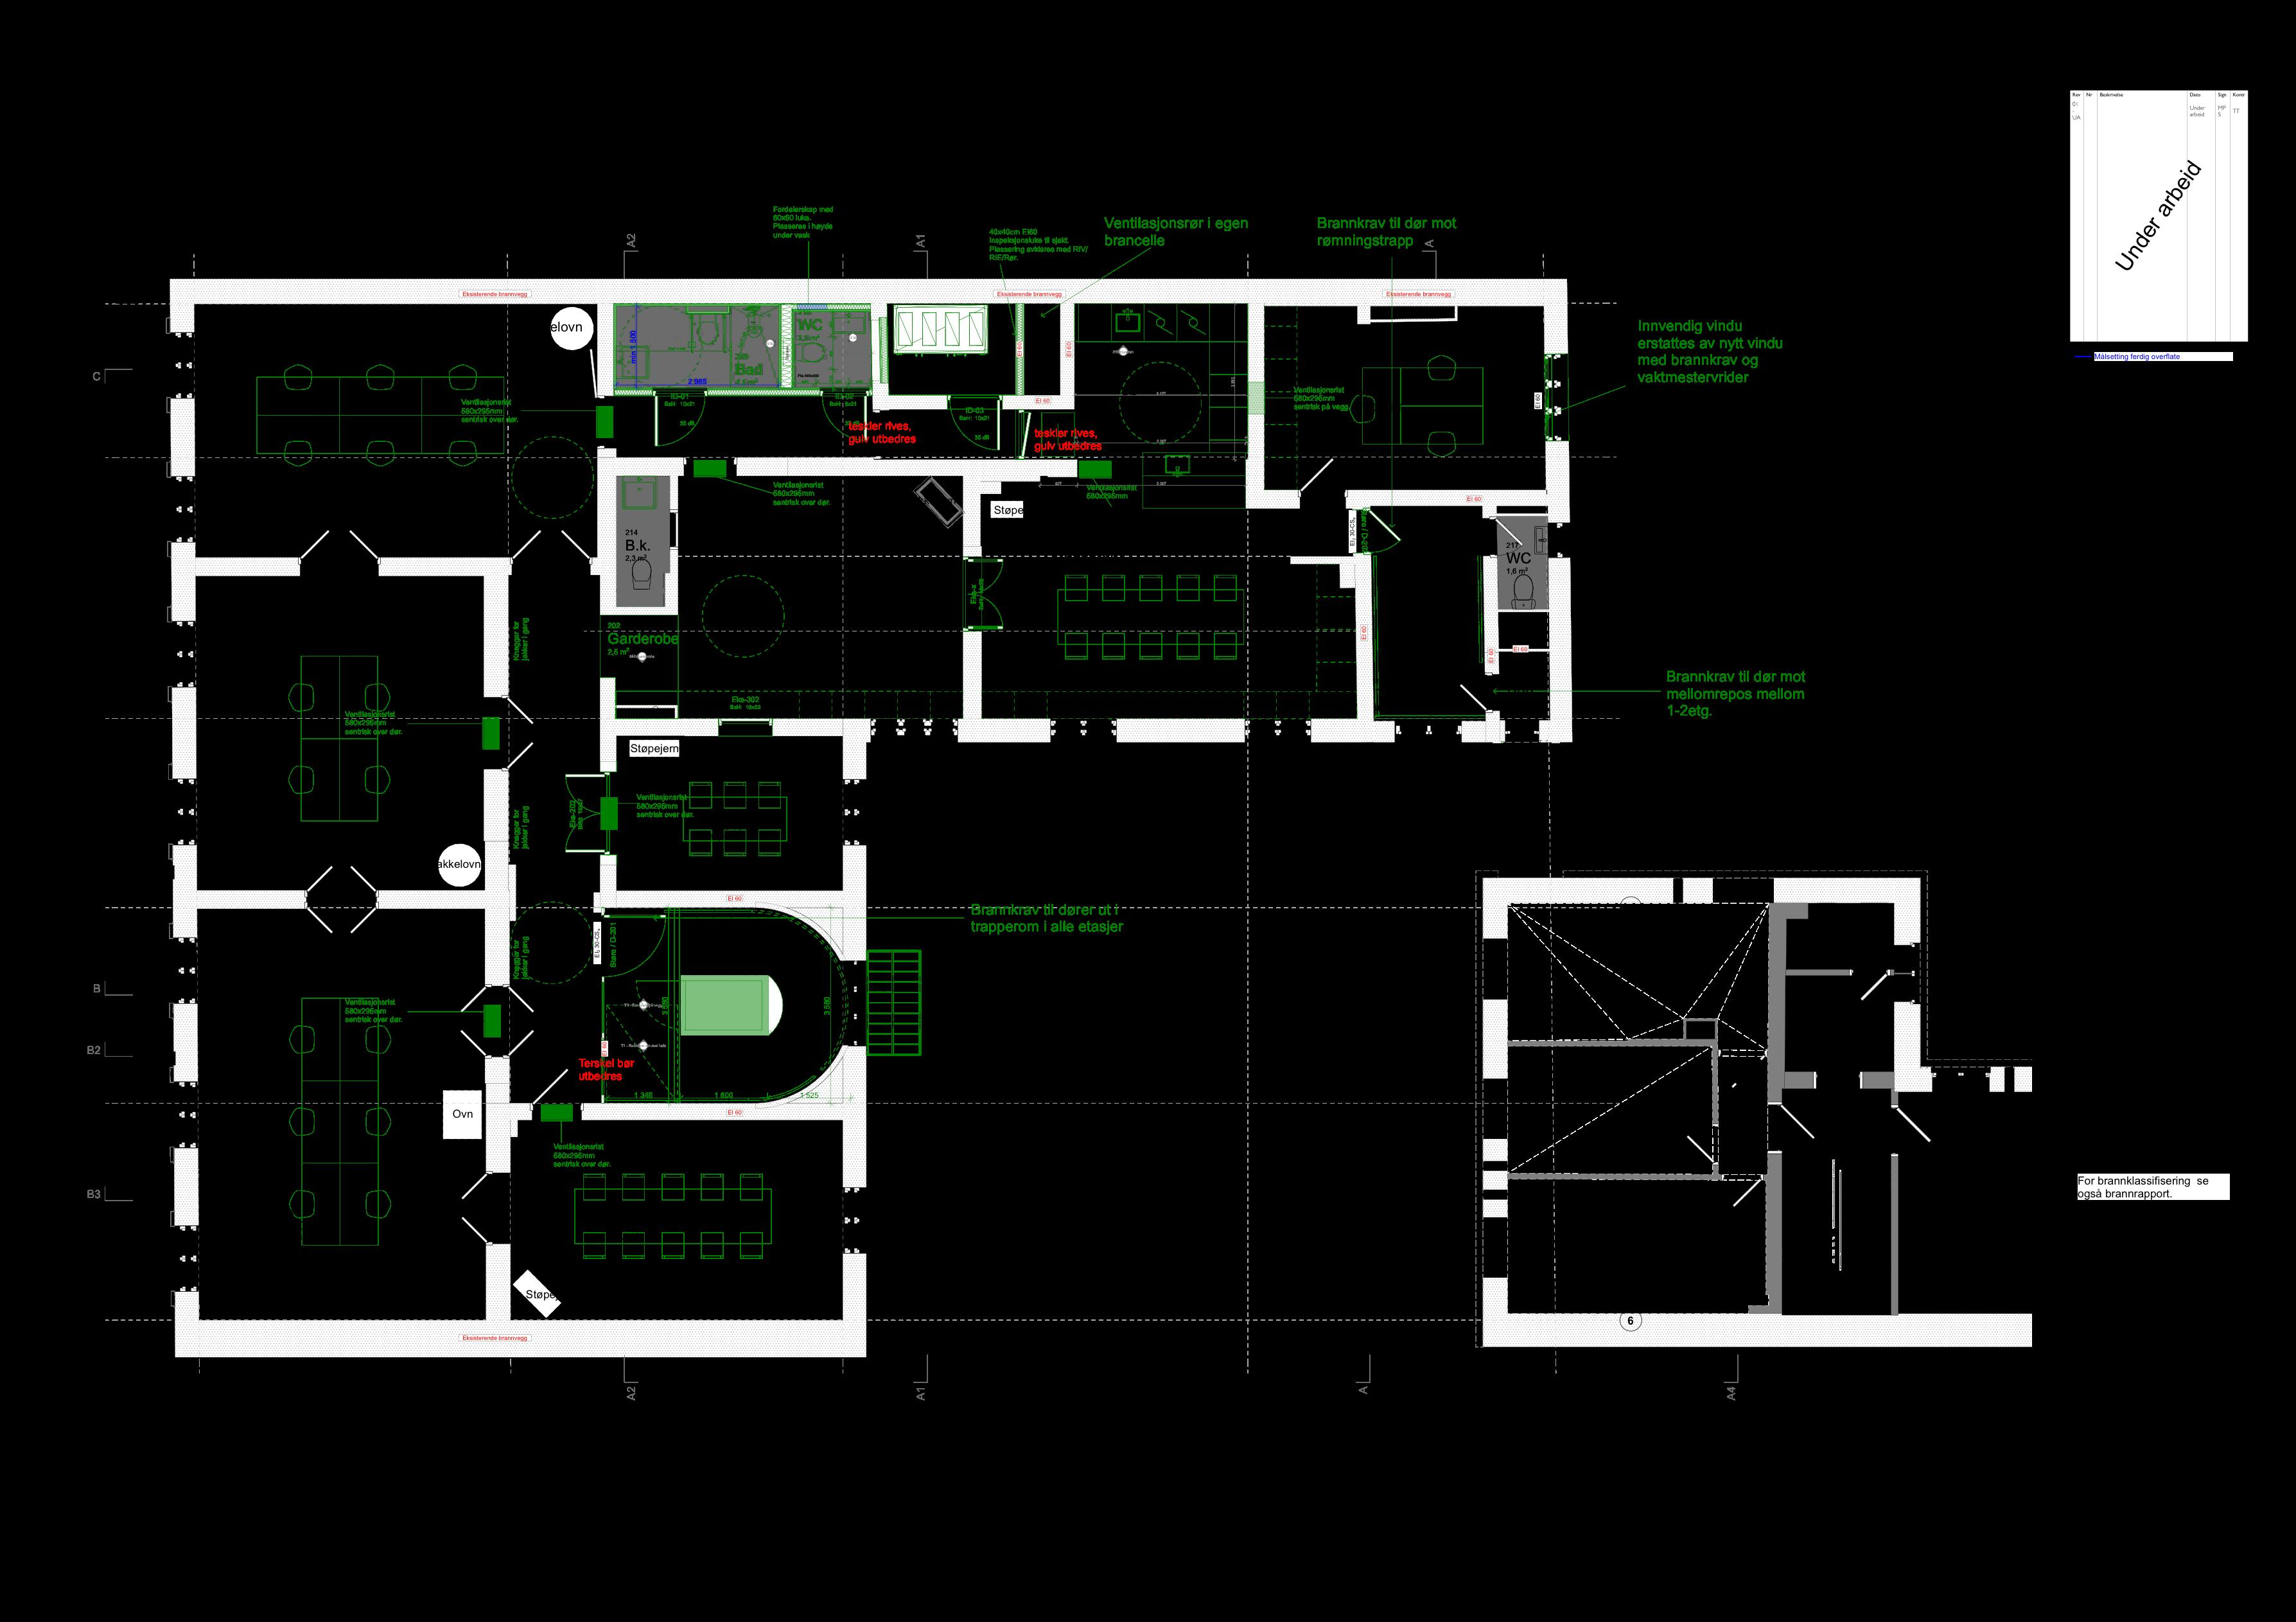room: (184, 902, 497, 1331), (184, 298, 606, 565), (184, 571, 491, 899), (972, 479, 1364, 727), (500, 1113, 851, 1334), (672, 469, 971, 727), (1257, 297, 1559, 493), (602, 904, 853, 1111), (606, 730, 851, 899), (1503, 1174, 1775, 1320), (1499, 901, 1775, 1043), (1360, 499, 1487, 730), (1506, 1043, 1715, 1178), (609, 300, 876, 395), (876, 300, 1067, 404), (1776, 971, 1894, 1080), (1776, 911, 1896, 971)
